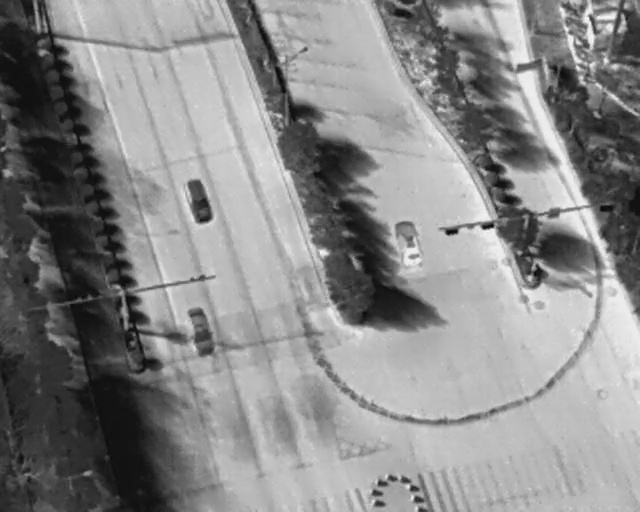Car: (179, 175, 216, 227), (390, 217, 424, 273), (183, 305, 217, 357)
